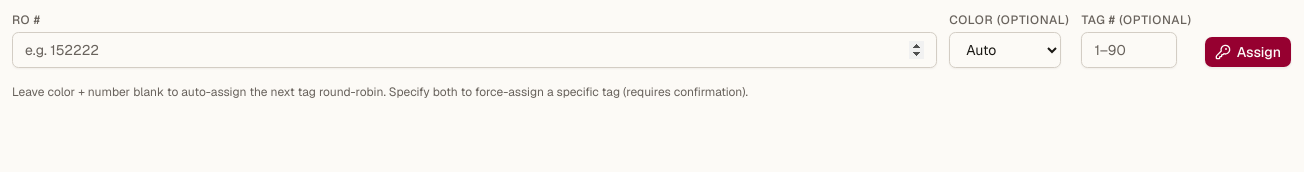
Test: AssignKeytagForm › shows a validation error message when the action returns validation_error
Type "152222" into the number field labelled "RO #" at (475, 50), box [12, 32, 937, 68]
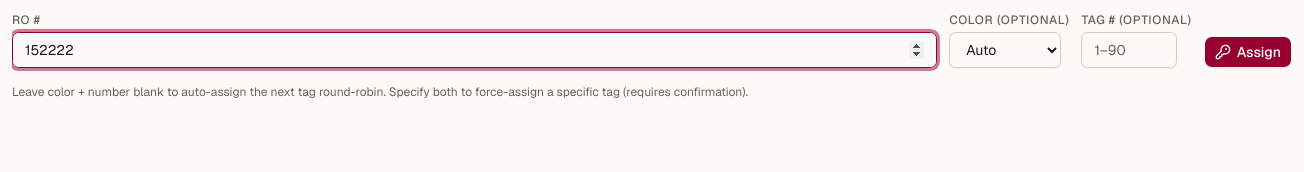
Click the button "Assign" at (1248, 52), box [1204, 36, 1292, 68]
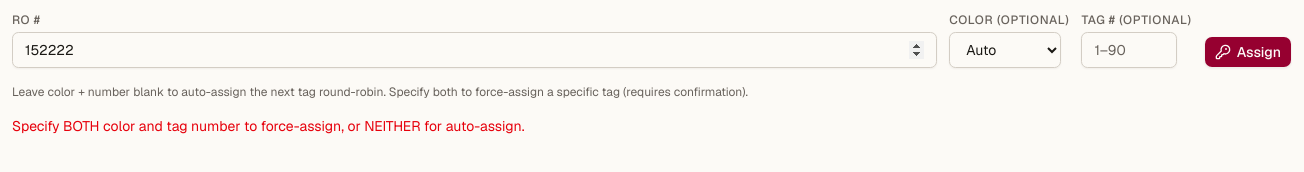
Check: the text "Specify BOTH color and tag number" is shown, box [12, 117, 524, 135]
